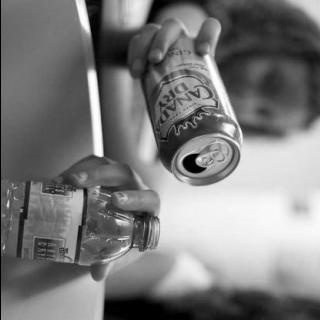alumunium_can: (139, 27, 239, 188)
